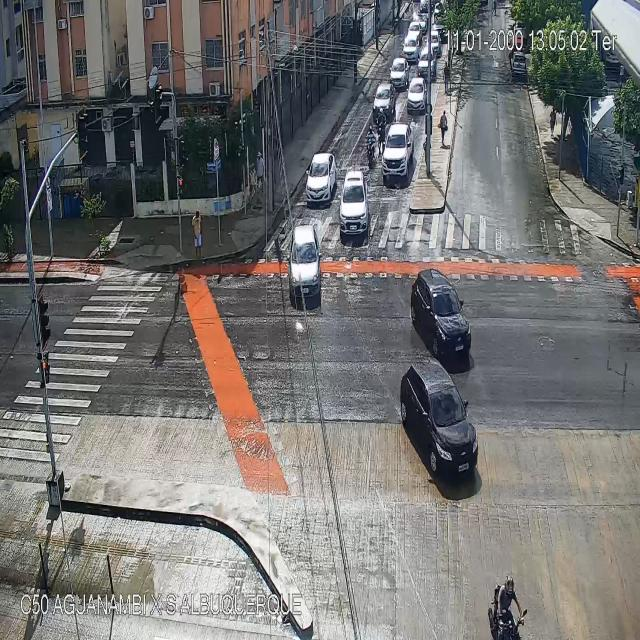Car: (401, 362, 478, 478), (411, 267, 470, 359), (286, 224, 323, 305), (338, 172, 369, 234), (382, 124, 414, 178), (306, 152, 334, 204), (373, 82, 397, 116), (406, 77, 426, 113), (418, 46, 436, 78), (389, 56, 408, 86), (403, 37, 420, 64), (511, 51, 527, 78), (425, 30, 441, 56), (406, 21, 422, 42)
Motorcycle: (489, 575, 526, 639), (366, 125, 374, 167), (377, 108, 384, 153)
